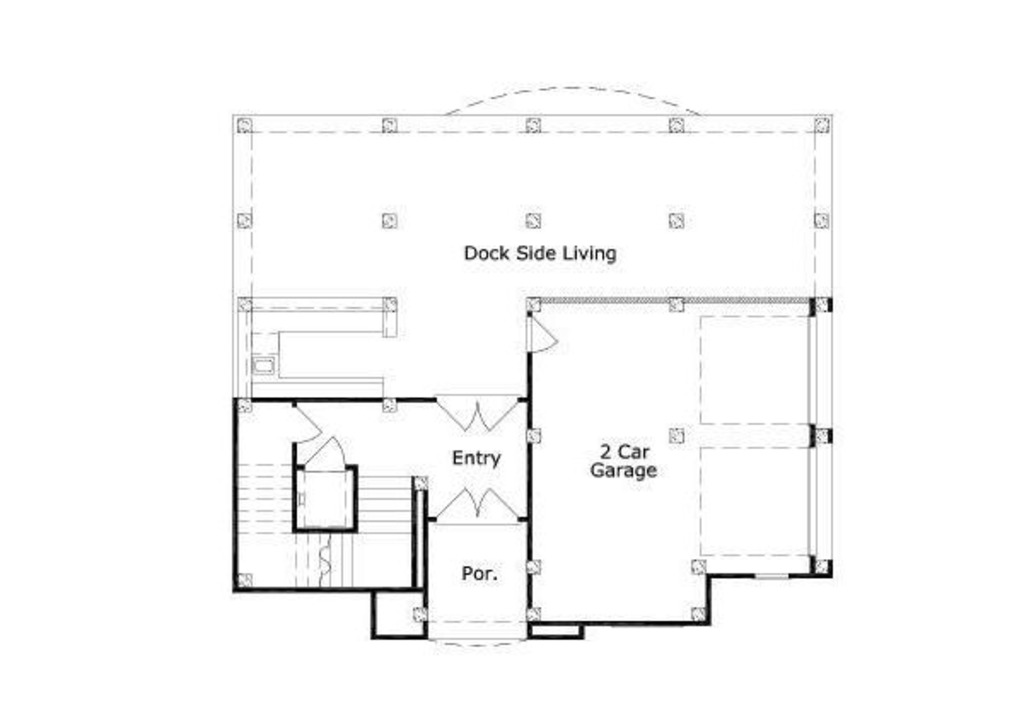door: (428, 393, 519, 432), (437, 485, 523, 526), (525, 314, 562, 352), (306, 436, 347, 470), (292, 406, 321, 442)
stairs: (234, 464, 417, 592)
windows: (747, 568, 793, 581)
